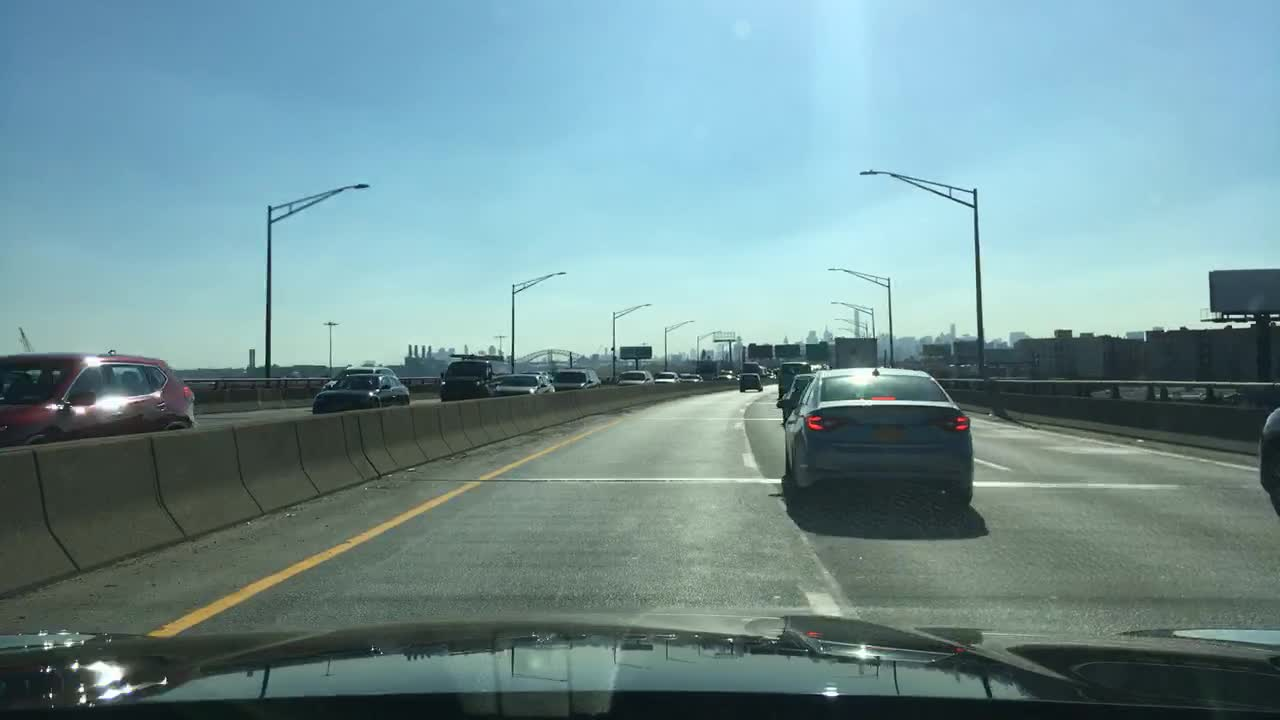car: (780, 366, 975, 501), (0, 351, 197, 444), (310, 373, 409, 414), (439, 351, 497, 401), (1258, 403, 1278, 511), (775, 372, 817, 422), (320, 365, 399, 389), (494, 369, 555, 394), (778, 360, 812, 397), (550, 366, 600, 389), (618, 368, 654, 385), (735, 371, 763, 391), (740, 360, 768, 377), (653, 368, 681, 382), (678, 370, 702, 382), (715, 368, 737, 380), (767, 365, 778, 376)
traffic sign: (803, 338, 832, 360), (618, 345, 649, 361), (744, 342, 771, 358), (774, 342, 801, 358)
truck: (824, 335, 878, 368)
